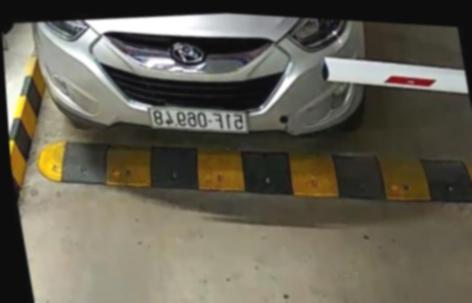License_Plate: (144, 100, 247, 142)
